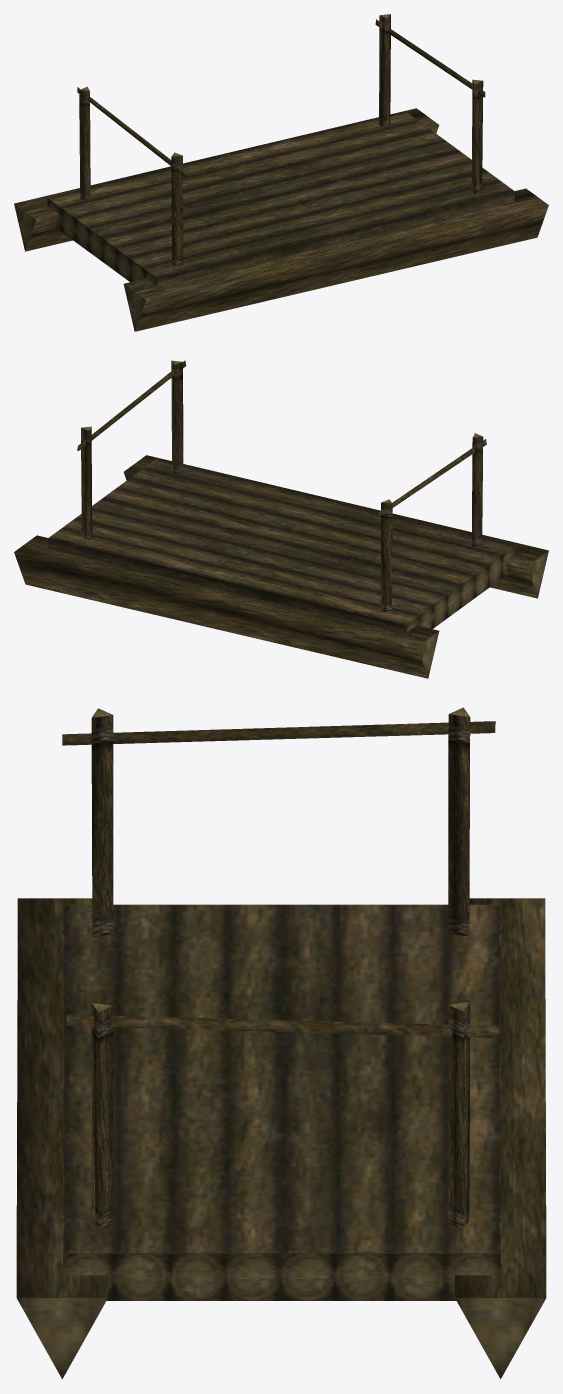
The model's file is thm_endr_village_tree_catwlk_cap_s01_l2.fbx.
3 views of the same model, one above another, from view 1: azimuth 30°, elevation 25°; view 2: azimuth 150°, elevation 25°; view 3: azimuth 270°, elevation 25° (orthographic). The views are drawn at different scales.
Visible parts, largest first — view 1: mesh_node; view 2: mesh_node; view 3: mesh_node.
Part boxes in pixels (<box>): mesh_node: <box>14,14,548,331</box>; mesh_node: <box>14,360,548,678</box>; mesh_node: <box>16,707,546,1379</box>.
Bounding box in the file's own units: 4.04 × 1.55 × 2.3.
1 material, 1 textured.
